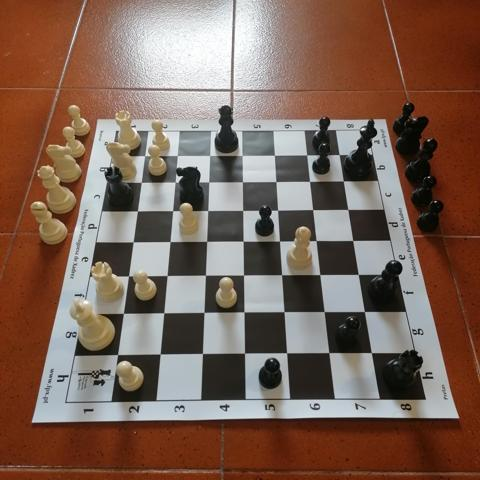xcorner: (270, 175, 286, 190), (124, 235, 139, 251), (153, 348, 168, 364), (335, 148, 350, 163), (302, 148, 317, 163), (269, 148, 284, 163), (236, 148, 251, 163), (202, 148, 217, 163), (169, 148, 184, 163), (136, 148, 151, 163), (339, 175, 354, 190), (305, 175, 320, 190), (236, 175, 251, 190), (202, 175, 217, 190), (167, 175, 182, 190), (132, 175, 147, 190), (344, 204, 359, 219), (308, 204, 323, 219), (272, 204, 287, 219), (237, 204, 252, 219), (201, 204, 216, 219), (165, 204, 180, 219), (128, 204, 143, 219), (349, 235, 364, 250), (312, 235, 327, 250), (274, 235, 289, 250), (237, 235, 252, 250), (200, 235, 215, 250), (162, 235, 177, 250), (354, 269, 369, 284), (315, 269, 330, 284), (277, 269, 292, 284), (238, 269, 253, 284), (198, 270, 213, 285), (159, 270, 174, 285), (120, 270, 135, 285), (360, 306, 375, 321), (320, 306, 335, 321), (279, 307, 294, 322), (238, 307, 253, 322), (197, 307, 212, 322), (156, 307, 171, 322), (115, 308, 130, 323), (366, 347, 381, 362), (324, 347, 339, 362), (282, 347, 297, 362), (239, 348, 254, 363), (196, 348, 211, 363), (109, 349, 124, 364)
